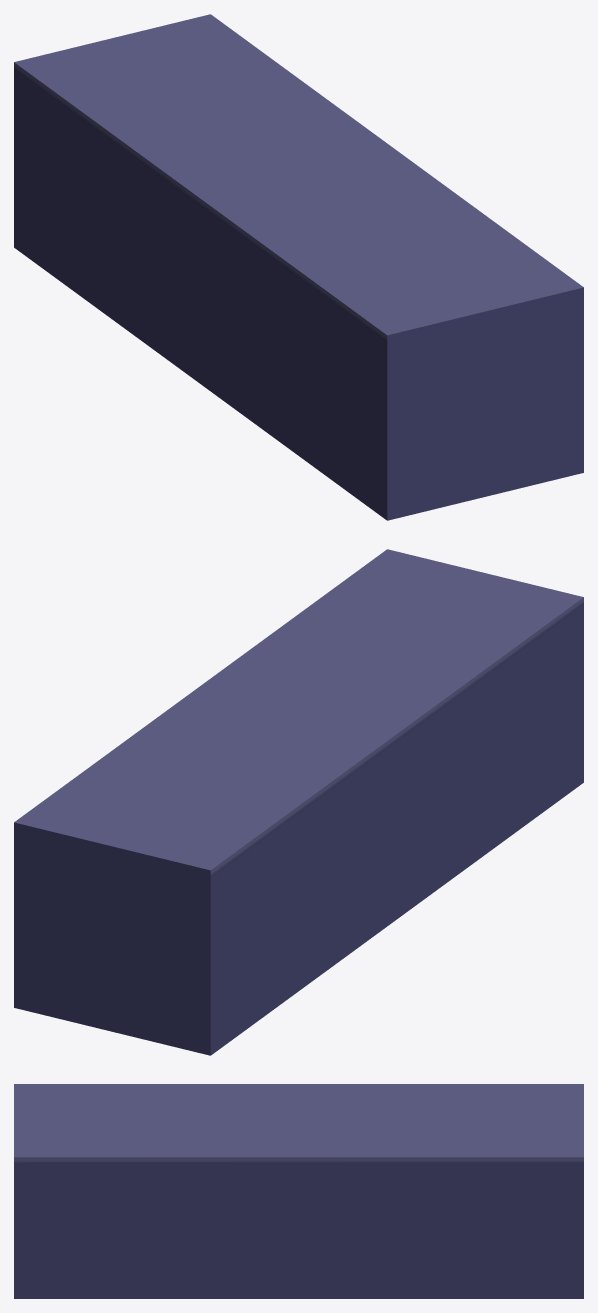
File: filler.fbx
3 renders of one model, top to bottom at view 1: azimuth 30°, elevation 25°; view 2: azimuth 150°, elevation 25°; view 3: azimuth 270°, elevation 25°, orthographic. The views are drawn at different scales.
Parts seen in each view (by area): view 1: boxFiller:Mesh; view 2: boxFiller:Mesh; view 3: boxFiller:Mesh.
Boxes of the visible parts, x1,y1,x2,y2 form: boxFiller:Mesh: (14, 14, 583, 520); boxFiller:Mesh: (14, 549, 583, 1055); boxFiller:Mesh: (14, 1084, 583, 1298).
Size of the model in its own units: 2.01 by 1.81 by 6.6.
